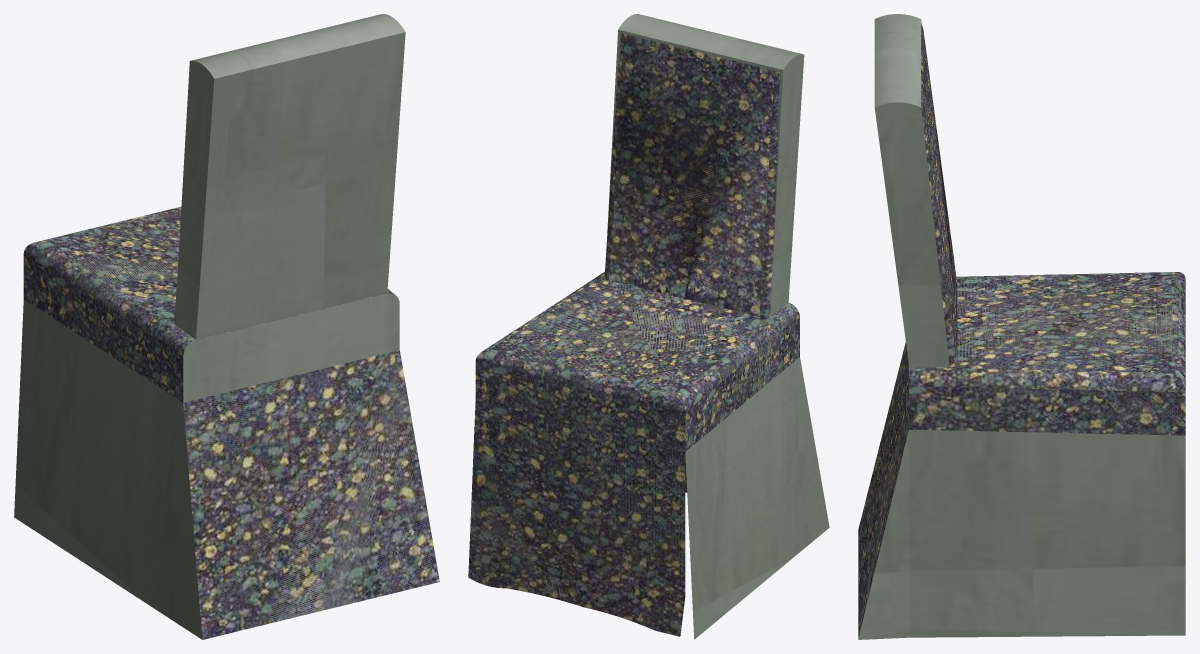
3 renders of one model, left to right at view 1: azimuth 30°, elevation 25°; view 2: azimuth 150°, elevation 25°; view 3: azimuth 270°, elevation 25°, orthographic. The views are drawn at different scales.
Visible parts, largest first — view 1: mesh1_mesh1-geometry; view 2: mesh1_mesh1-geometry; view 3: mesh1_mesh1-geometry.
Boxes of the visible parts, bbox=[...] form: mesh1_mesh1-geometry: bbox=[14, 14, 439, 639]; mesh1_mesh1-geometry: bbox=[468, 14, 829, 639]; mesh1_mesh1-geometry: bbox=[858, 14, 1185, 639].
Size of the model in its own units: 0.393 by 0.7974 by 0.4504.
